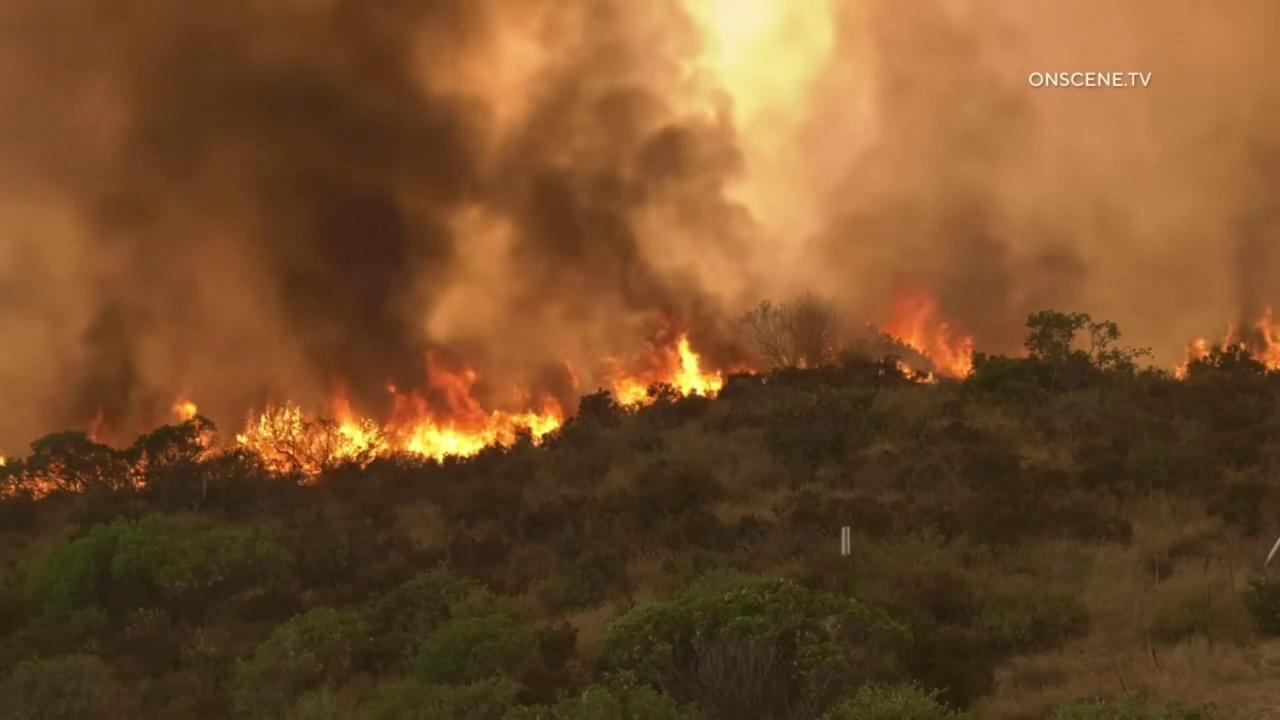fire: (171, 350, 566, 489), (0, 405, 152, 501), (610, 327, 724, 416), (879, 284, 977, 385), (1177, 323, 1229, 382), (1265, 324, 1280, 371), (1243, 336, 1256, 361), (728, 365, 757, 375)
smoke: (0, 0, 1280, 456)
